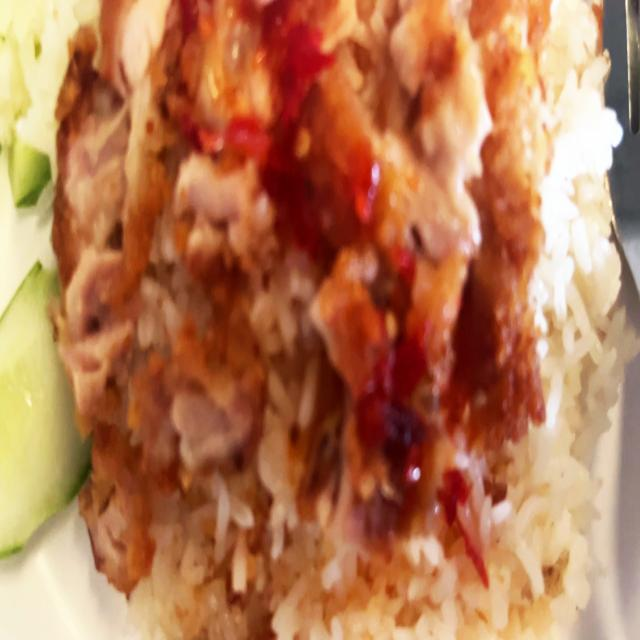chicken_rice: (0, 0, 640, 640)
cucumber: (0, 253, 94, 564), (0, 0, 62, 208)
fried_chicken: (56, 0, 550, 506)
